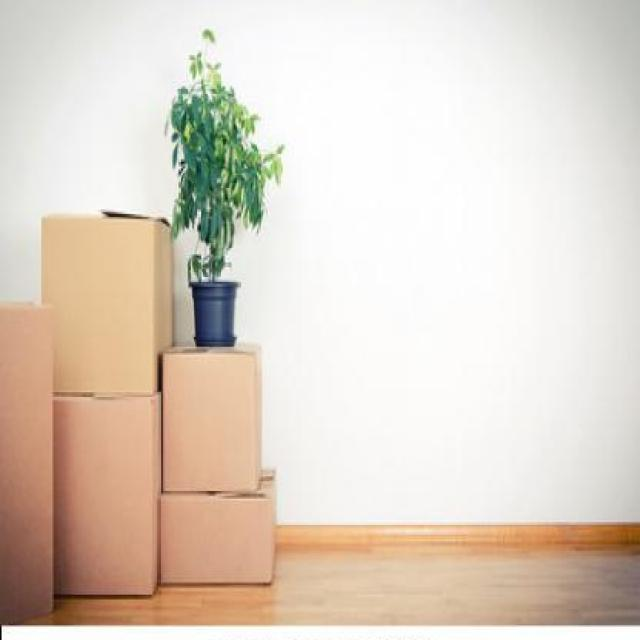box: (53, 395, 158, 592), (43, 217, 168, 373), (3, 307, 57, 626), (162, 352, 262, 486), (158, 488, 280, 585)
